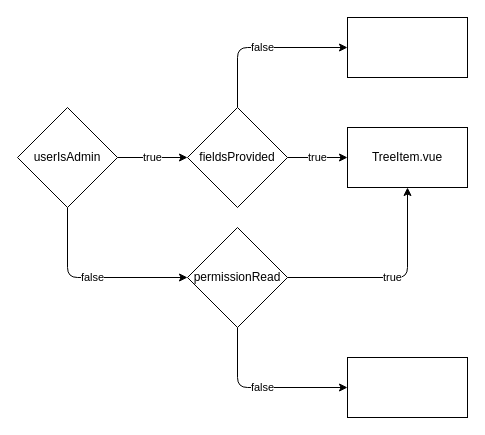
Image size: 485x435. Some labels were removed from this diagram. The box of each missing label's shape, as (x1, y1, x2, y2) in pixels:
MandatoryCard.vue: (346, 16, 468, 78)
PermissionCard.vue: (346, 356, 468, 418)
